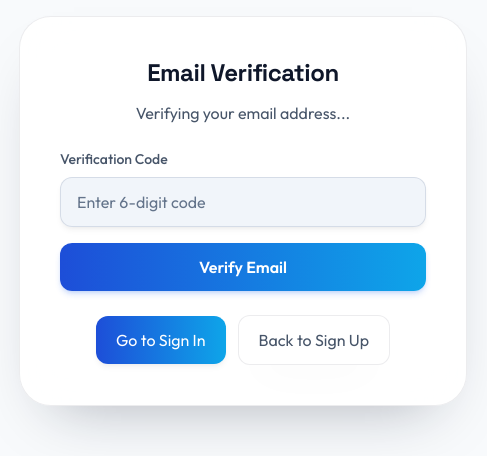
Test case: Verify Email Page › verifies the email when the user submits a valid code
Type "123456" into the field labelled "Verification Code".
click(243, 202); type("123456")  # box x1=60 y1=177 x2=426 y2=227
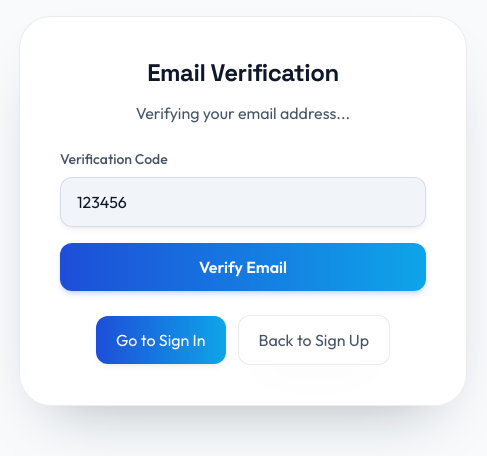
Submit the form "Verification Code Verify Email", box x1=60 y1=149 x2=426 y2=291
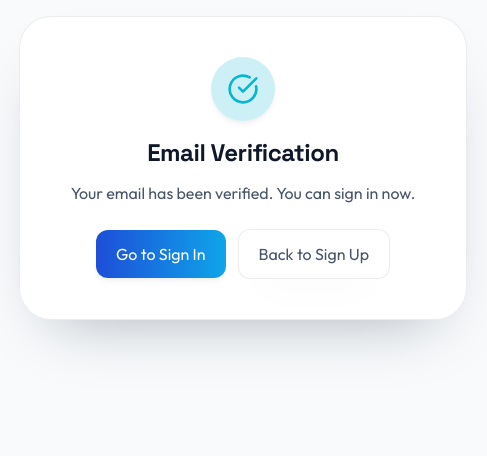
Result: the text "Your email has been verified. You can sign in now." is shown at x1=60 y1=181 x2=426 y2=205
